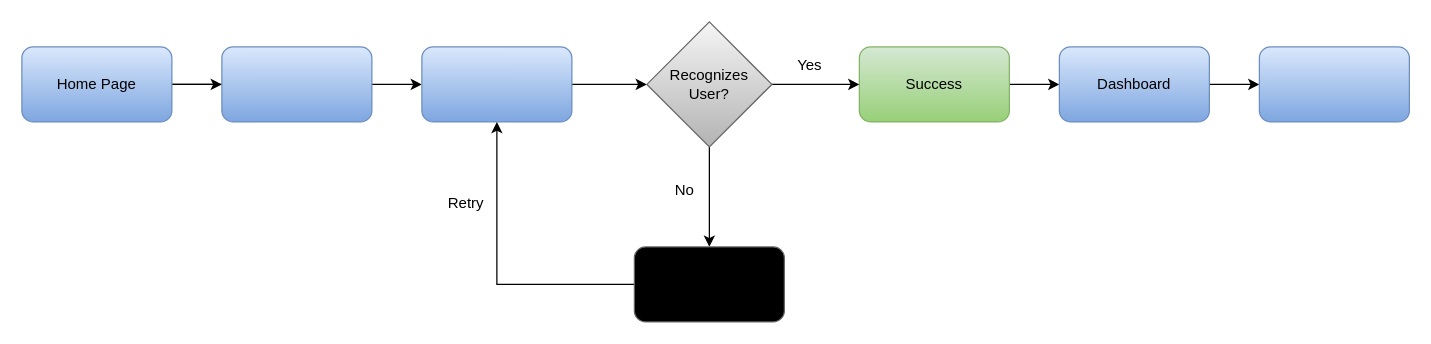
Some shapes in this 1431 by 344 pixel diagram are drawn without their labels. Here are the shapes that lost their labels. From the top down, the centre of each, then its label:
pixel 296 84: Login
pixel 496 84: Live Camera View
pixel 1333 84: Logout
